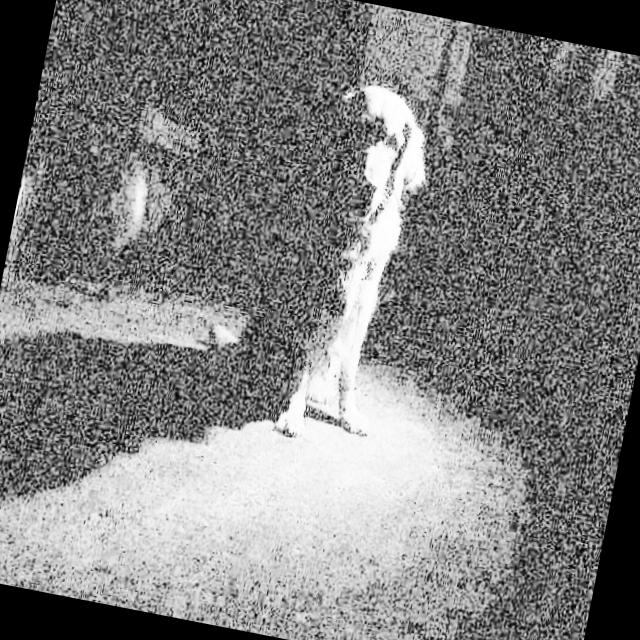Dog: (182, 0, 497, 514)
